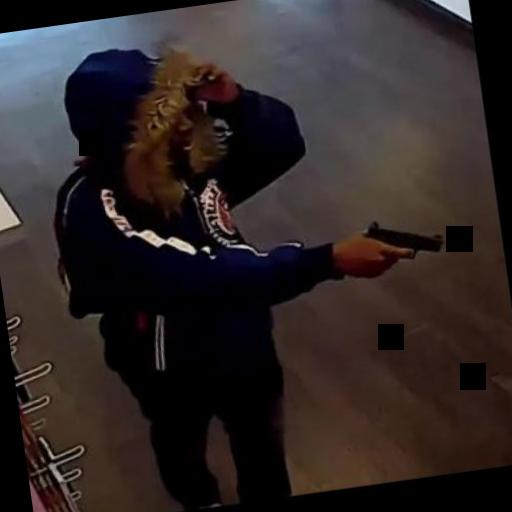Handgun: (354, 210, 446, 280)
